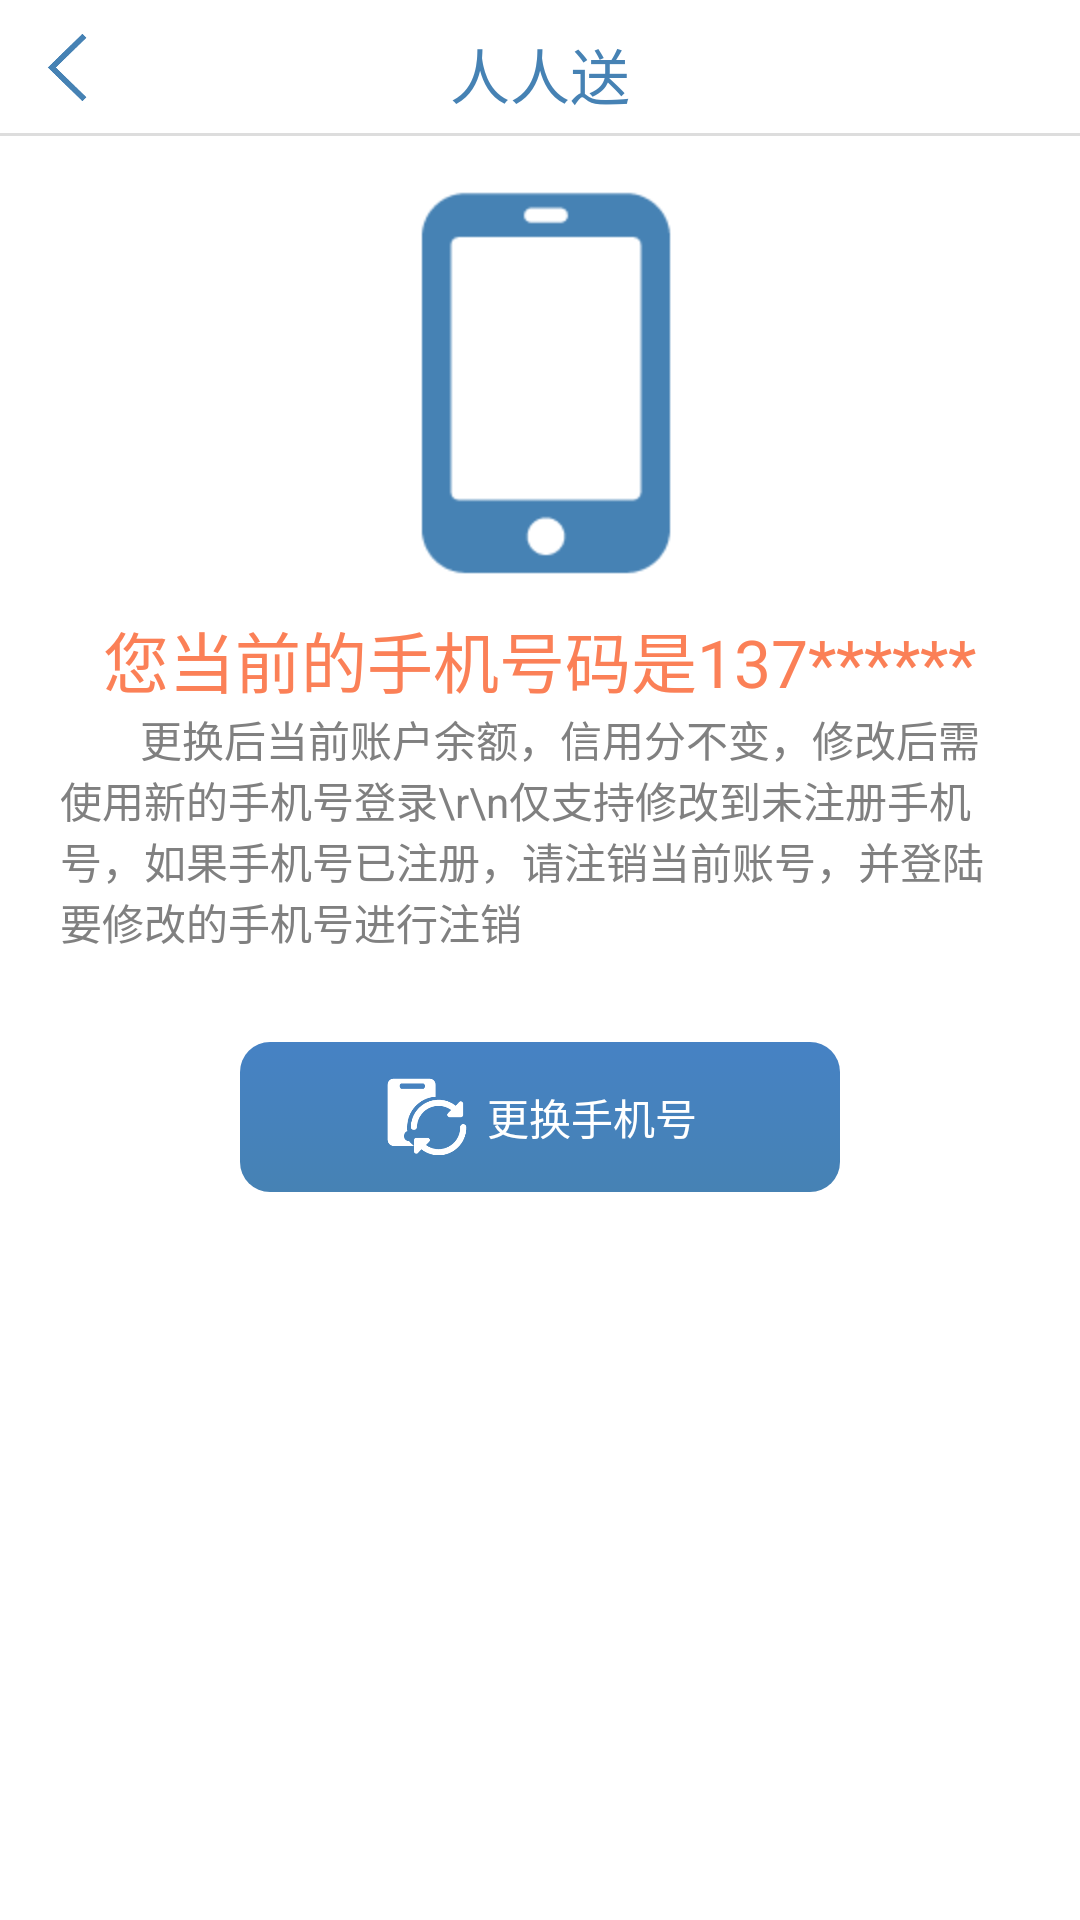

Icon bounding boxes for this 1080px×1920px phone screenshot, format (x1, y1, x2, y2):
back: (48, 34, 86, 101)
change phone: (387, 1078, 467, 1155)
